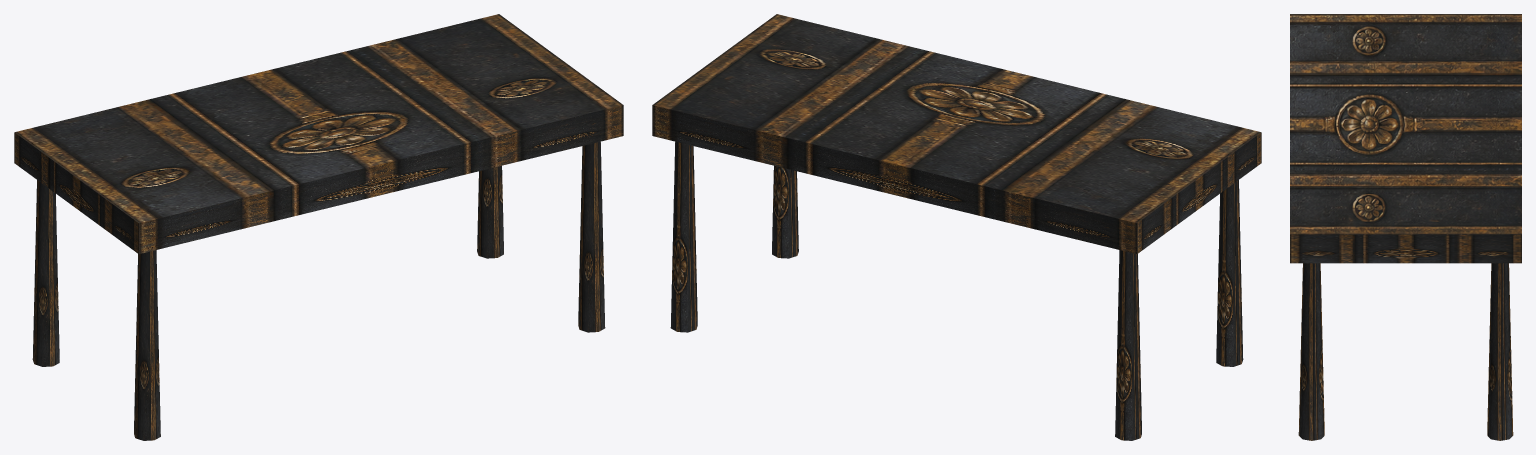
Rendered from writing-desk.gltf.
3 views of the same model, side by side, from view 1: azimuth 30°, elevation 25°; view 2: azimuth 150°, elevation 25°; view 3: azimuth 270°, elevation 25° (orthographic). The views are drawn at different scales.
Parts seen in each view (by area): view 1: kit:0:furniture:mahogany:; view 2: kit:0:furniture:mahogany:; view 3: kit:0:furniture:mahogany:.
Part boxes in pixels (x1,y1,x2,y2): kit:0:furniture:mahogany:: (14,14,623,440); kit:0:furniture:mahogany:: (652,14,1261,440); kit:0:furniture:mahogany:: (1290,14,1521,440).
Size of the model in its own units: 1.8 by 0.8 by 0.8.
1 material, 1 textured.
